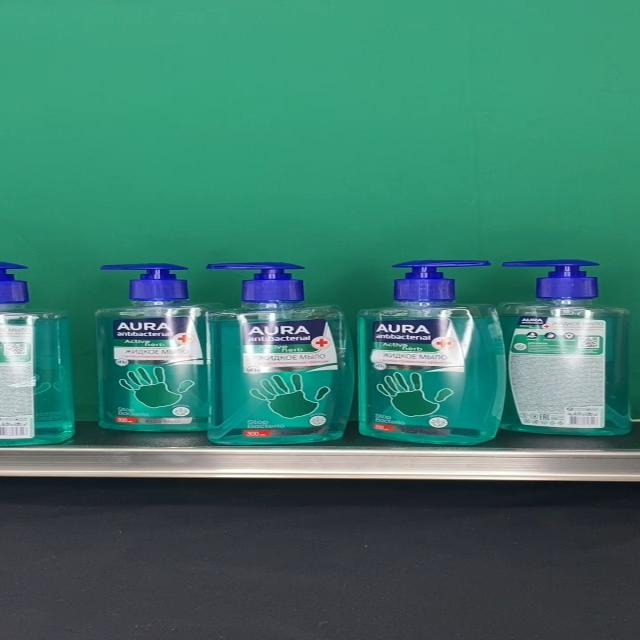Bottle: (358, 259, 506, 445), (205, 262, 354, 444), (496, 258, 633, 436), (95, 264, 226, 431)
Cap: (392, 260, 492, 300), (501, 260, 600, 300), (206, 262, 304, 300), (100, 264, 188, 300)
